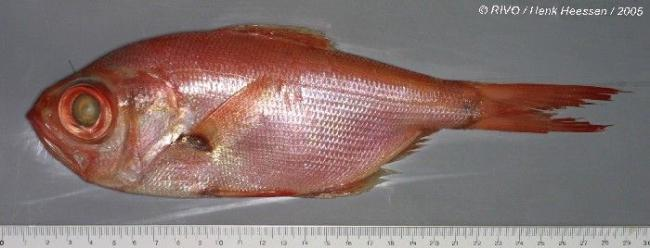fish: (26, 24, 632, 200)
